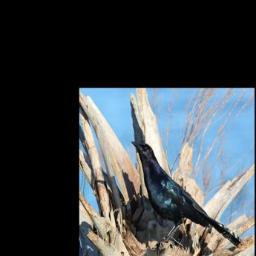Crow: (131, 140, 241, 255)
